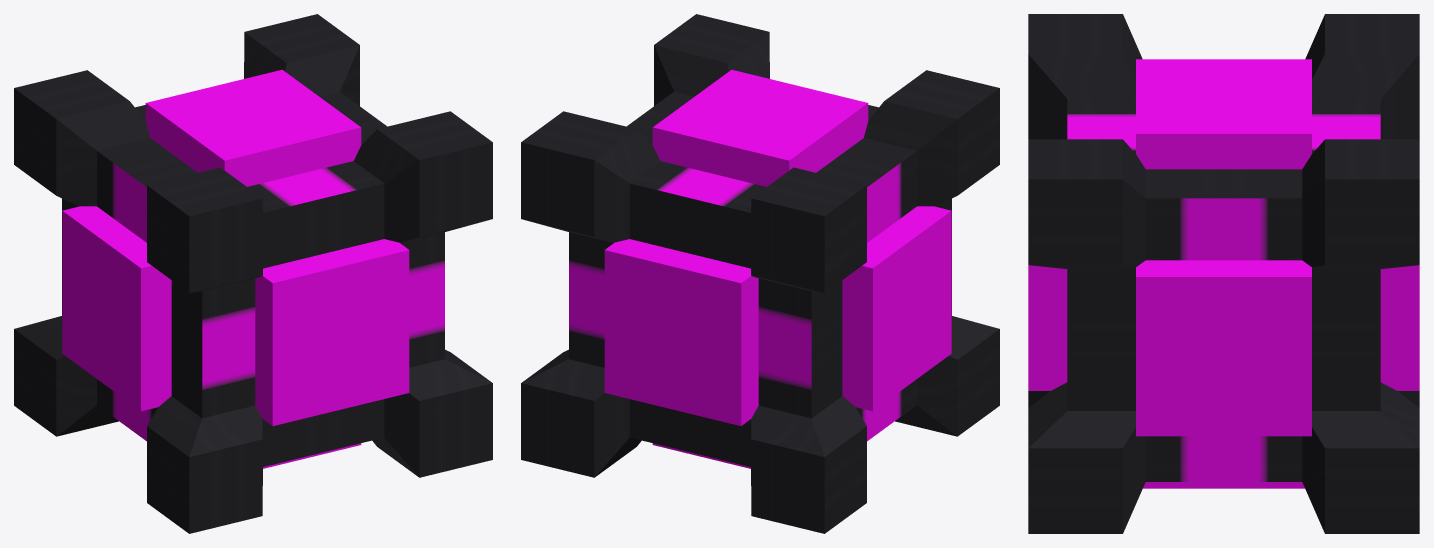
Rendered from creative_well.obj.
The picture shows the model from 3 angles, left to right: view 1: azimuth 30°, elevation 25°; view 2: azimuth 150°, elevation 25°; view 3: azimuth 270°, elevation 25°; orthographic projection. The views are drawn at different scales.
Visible parts, largest first — view 1: Creative_Well_ccmdl, FlangePZ_pfmdl; view 2: Creative_Well_ccmdl, FlangePZ_pfmdl; view 3: Creative_Well_ccmdl, FlangePZ_pfmdl.
Boxes of the visible parts, bbox=[...] form: Creative_Well_ccmdl: bbox=[14, 14, 492, 533]; FlangePZ_pfmdl: bbox=[62, 69, 409, 468]; Creative_Well_ccmdl: bbox=[521, 14, 999, 533]; FlangePZ_pfmdl: bbox=[604, 69, 951, 468]; Creative_Well_ccmdl: bbox=[1028, 14, 1419, 533]; FlangePZ_pfmdl: bbox=[1028, 59, 1419, 488].
Size of the model in its own units: 1 by 1 by 1.
